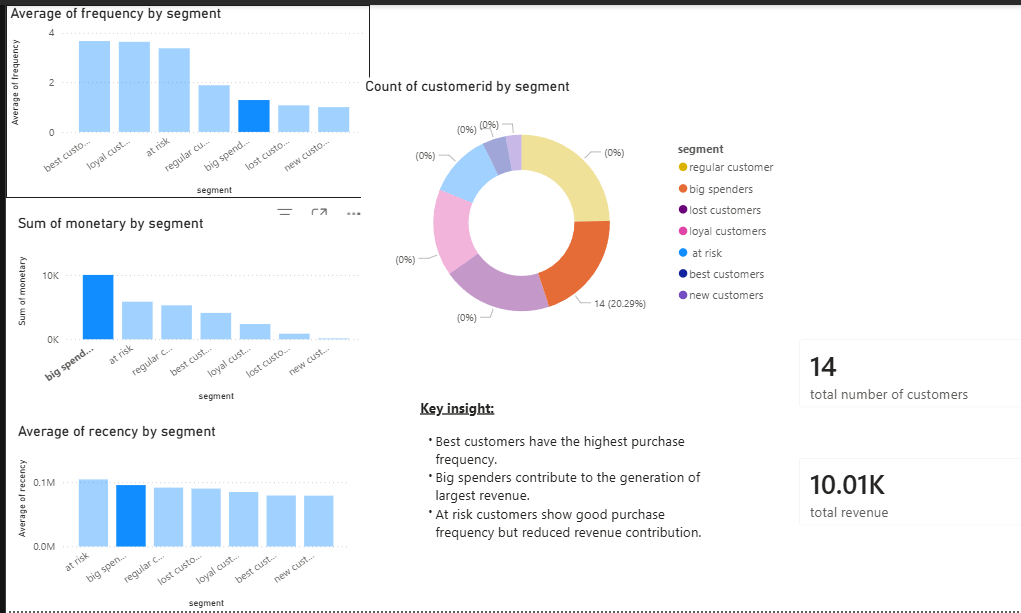

This screenshot's page, from the dashboard's own definition file:
{"tool":"powerbi","page":{"name":"Page 1","canvas":[1280,720],"ordinal":0},"visuals":[{"type":"clusteredColumnChart","fields":{"Category":["rfmscore.segment"],"Y":["Avg(rfmscore.frequency)"]},"box":[0,0,432.2,230.5],"z":0},{"type":"clusteredColumnChart","fields":{"Category":["rfmscore.segment"],"Y":["Sum(rfmscore.monetary)"]},"box":[9.6,249.7,422.6,226.4],"z":1000},{"type":"clusteredColumnChart","fields":{"Category":["rfmscore.segment"],"Y":["Avg(rfmscore.recency)"]},"box":[9.6,495.4,403.4,225],"z":2000},{"type":"donutChart","fields":{"Category":["rfmscore.segment"],"Y":["CountNonNull(rfmscore.customerid)"]},"box":[421.1,86,504.2,326.2],"z":3000},{"type":"cardVisual","fields":{"Data":["Count(rfmscore.customerid)"]},"box":[923.8,379.6,355.9,115.7],"z":4000},{"type":"cardVisual","fields":{"Data":["Sum(rfmscore.monetary)"]},"box":[923.8,520.5,355.9,114.2],"z":5000},{"type":"textbox","box":[486.4,461.2,372.2,210.6],"z":5001}]}

Visuals, with their boxes on the page's 1280x720 design canvas (x1, y1, x2, y2). These are canvas units, not pixel positions in the 1021x613 screenshot, which may show the page scaled, cropped or inside an application window:
clusteredColumnChart - rfmscore.segment x Avg(rfmscore.frequency): x1=0 y1=0 x2=432 y2=230
clusteredColumnChart - rfmscore.segment x Sum(rfmscore.monetary): x1=10 y1=250 x2=432 y2=476
clusteredColumnChart - rfmscore.segment x Avg(rfmscore.recency): x1=10 y1=495 x2=413 y2=720
donutChart - rfmscore.segment x CountNonNull(rfmscore.customerid): x1=421 y1=86 x2=925 y2=412
cardVisual - Count(rfmscore.customerid): x1=924 y1=380 x2=1280 y2=495
cardVisual - Sum(rfmscore.monetary): x1=924 y1=520 x2=1280 y2=635
textbox: x1=486 y1=461 x2=859 y2=672
